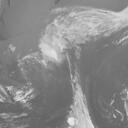cyclone: (45, 36, 91, 85)
